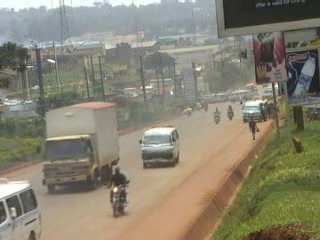Motorcycle: (102, 165, 132, 217), (211, 106, 222, 125), (182, 104, 194, 119), (226, 104, 236, 121)
